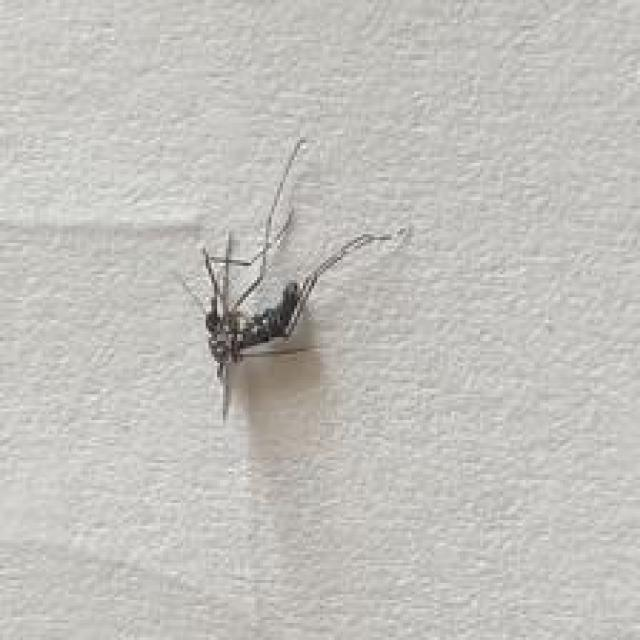Aedes albopictus: (179, 136, 407, 421)
